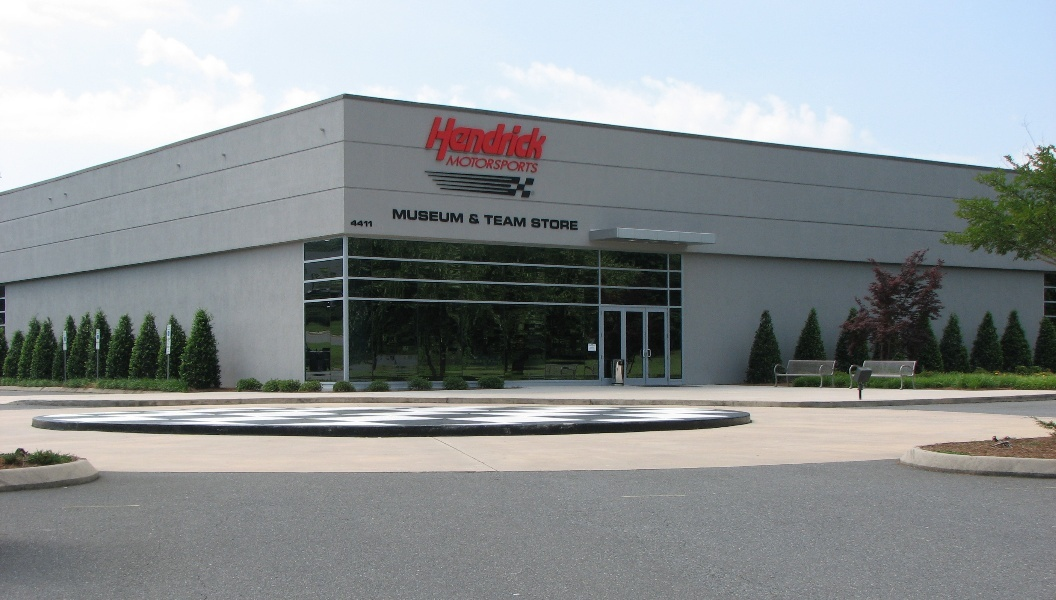text: (449, 117, 464, 161), (465, 117, 480, 161), (481, 117, 496, 161), (497, 117, 512, 161), (513, 117, 528, 161), (529, 117, 544, 161), (435, 117, 448, 161), (465, 155, 480, 174), (481, 155, 496, 174), (497, 155, 512, 174), (513, 155, 528, 174), (450, 155, 464, 174), (401, 209, 416, 224), (417, 209, 432, 224), (433, 209, 448, 224), (449, 209, 464, 224), (529, 155, 540, 174), (497, 215, 512, 228), (545, 218, 560, 231), (561, 218, 576, 231), (513, 215, 526, 228), (531, 218, 544, 231), (484, 215, 496, 228), (545, 117, 548, 161), (393, 209, 400, 224), (353, 220, 368, 227), (470, 214, 480, 224), (369, 220, 372, 227), (350, 220, 352, 227), (577, 218, 578, 231)
